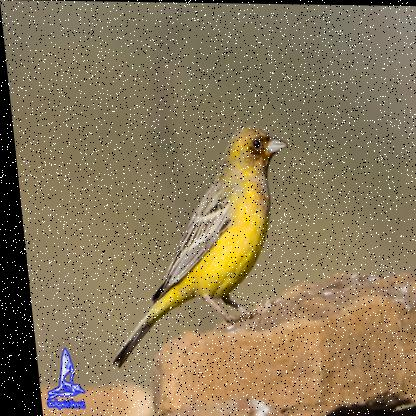Burung: (87, 121, 303, 374)
